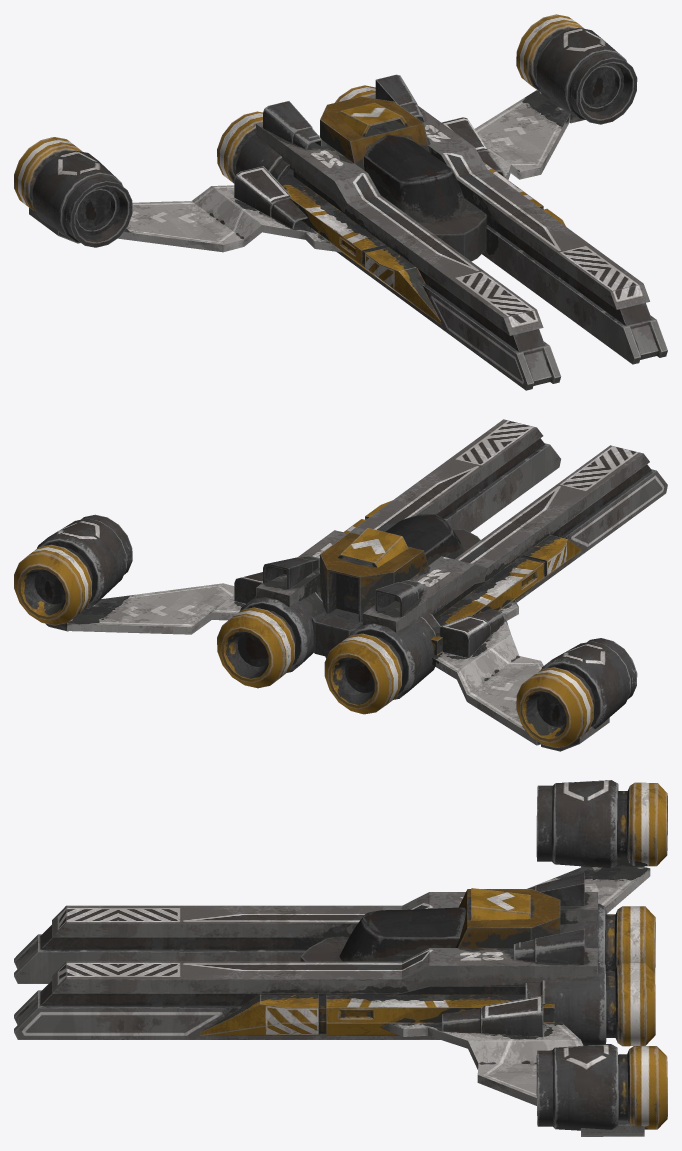
Rendered from Executioner.gltf.
3 renders of one model, top to bottom at view 1: azimuth 30°, elevation 25°; view 2: azimuth 150°, elevation 25°; view 3: azimuth 270°, elevation 25°, orthographic. The views are drawn at different scales.
Parts seen in each view (by area): view 1: Executioner; view 2: Executioner; view 3: Executioner.
Boxes of the visible parts, <box> form: Executioner: <box>14,14,667,390</box>; Executioner: <box>14,419,667,751</box>; Executioner: <box>14,780,667,1136</box>.
Size of the model in its own units: 10.02 by 1.85 by 9.2.
1 material, 1 textured.
